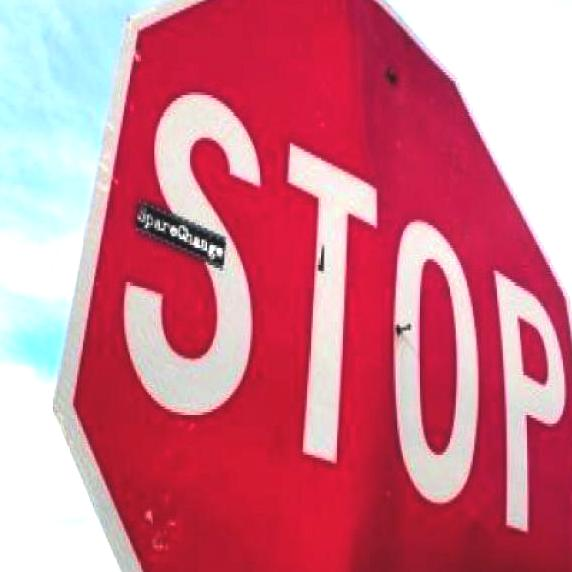stop_sign: (53, 0, 572, 572)
